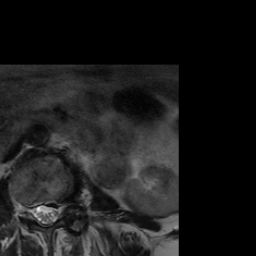CCS_normal: (41, 197, 50, 231)
LFS_normal: (60, 198, 67, 223)
LLS_normal: (51, 197, 59, 226)
RFS_normal: (23, 199, 34, 223)
RLS_normal: (32, 199, 41, 226)
